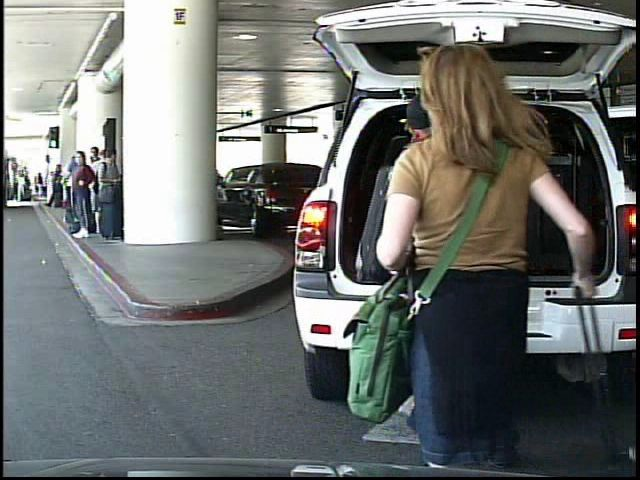person: (369, 36, 572, 479), (384, 73, 551, 459), (16, 174, 27, 205), (35, 172, 46, 199)
